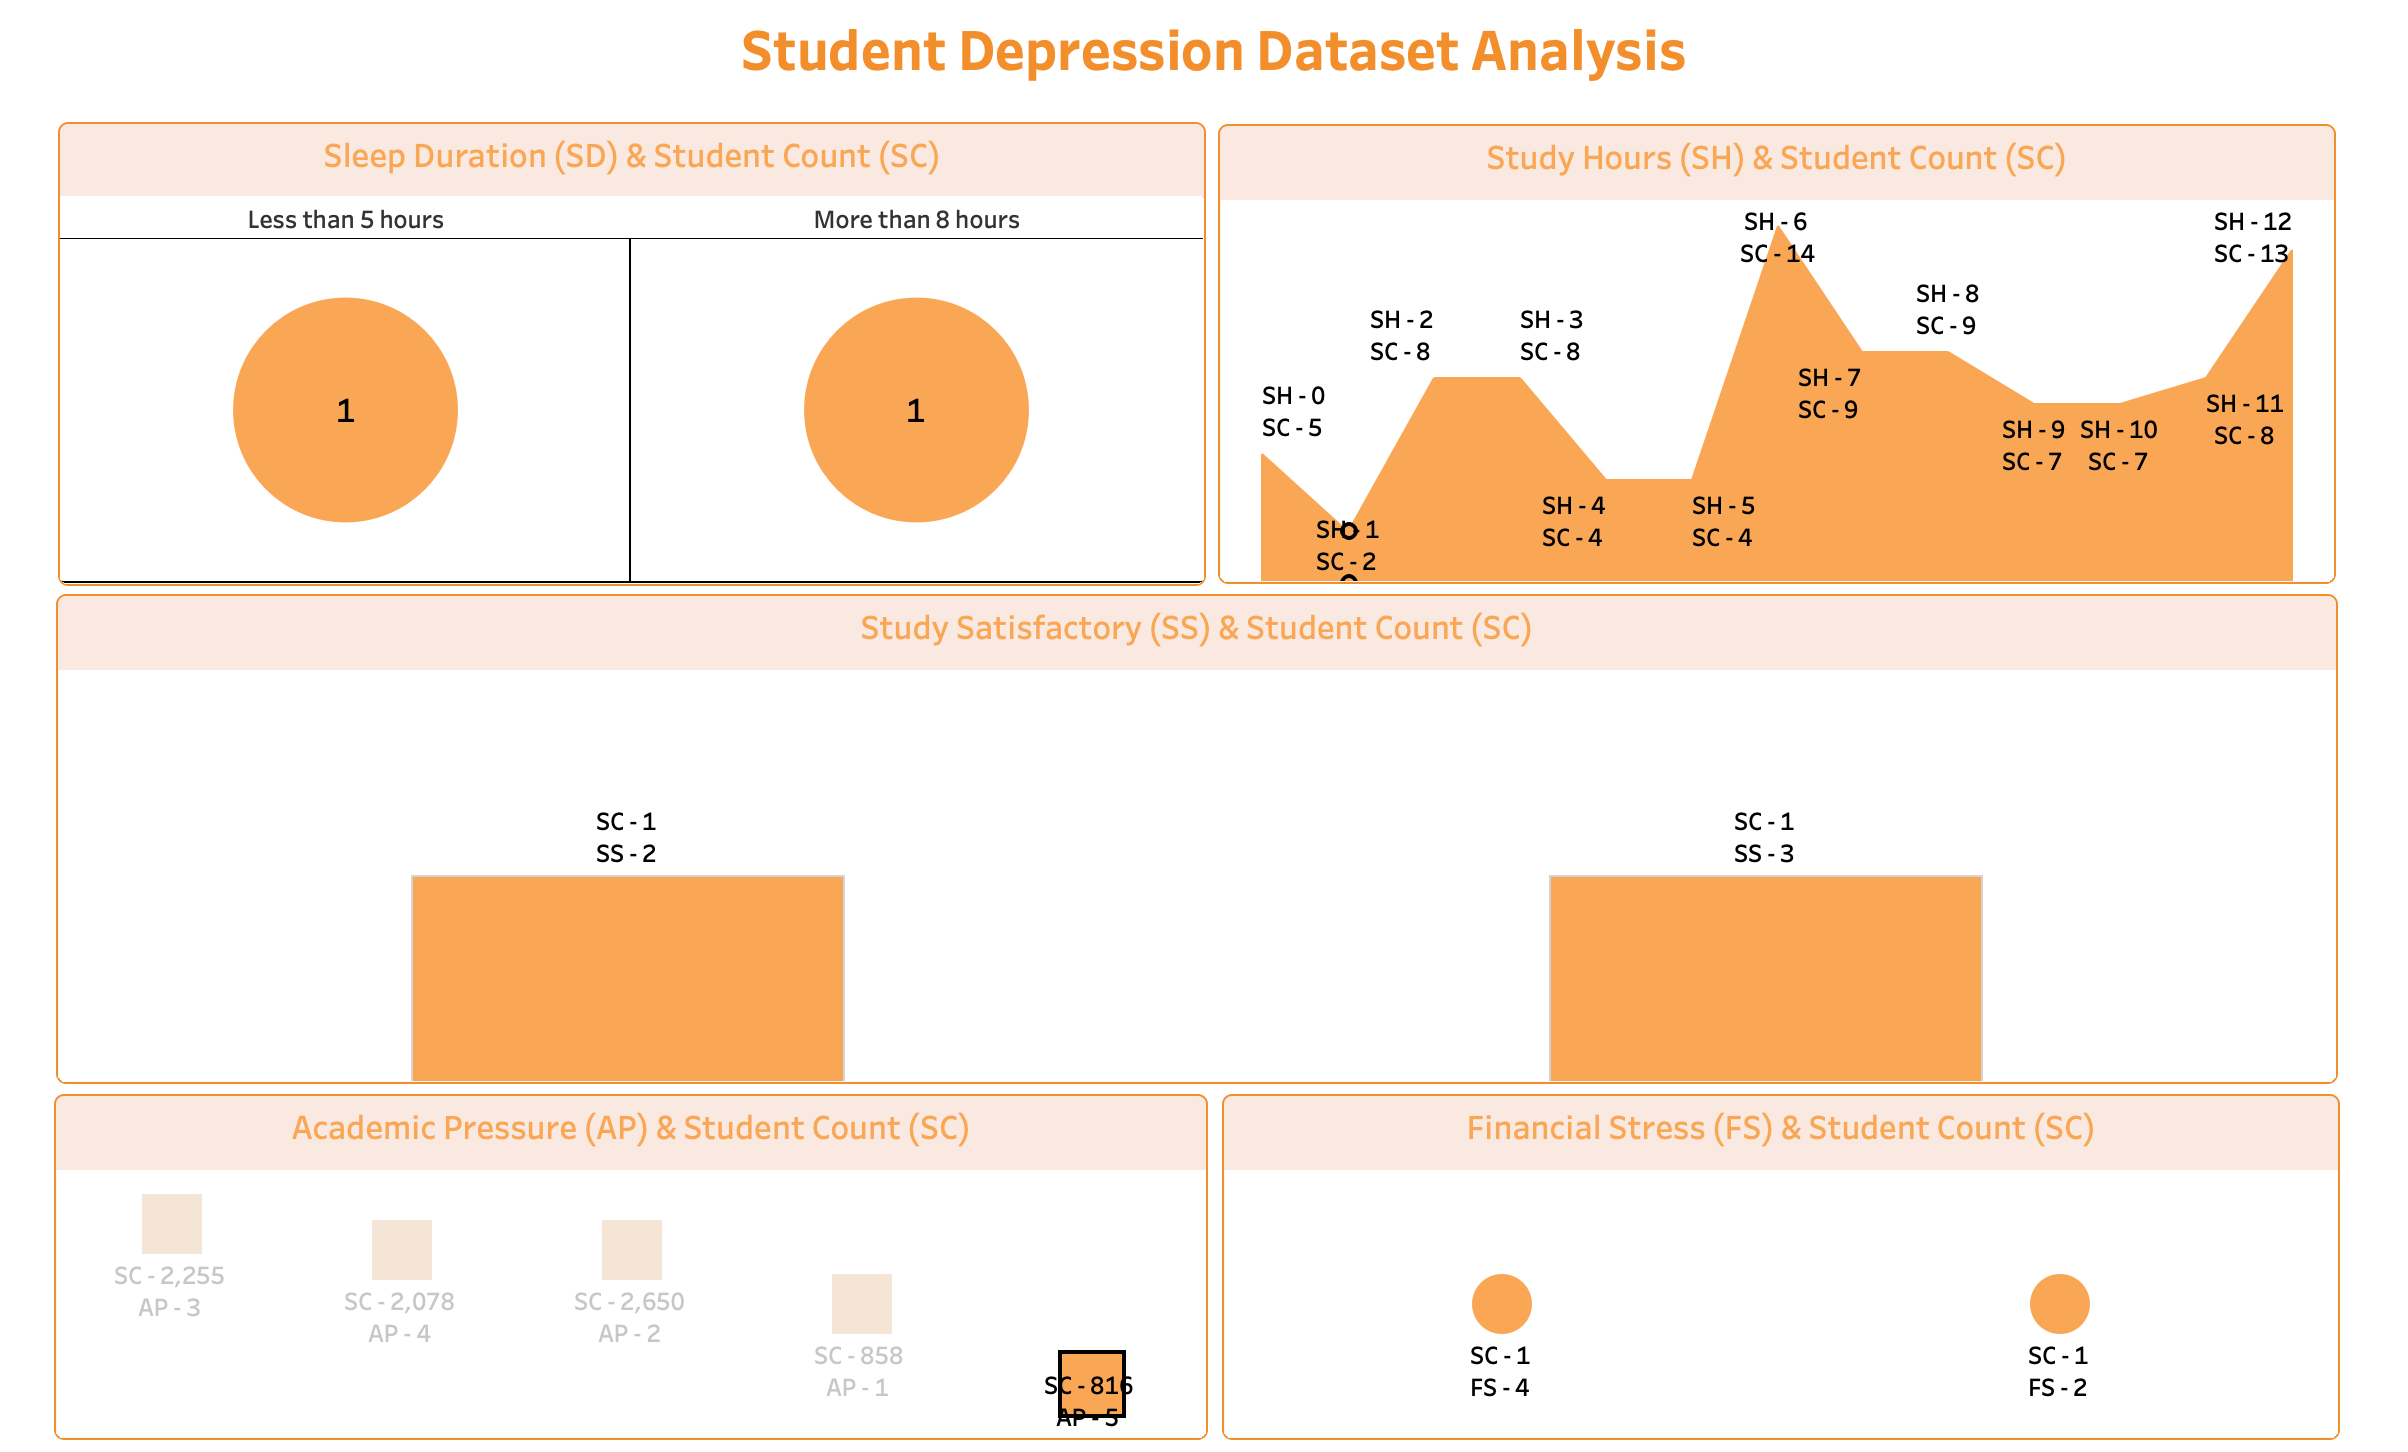

The page's visual inventory and layout, read from the dashboard file:
{"tool":"tableau","page":{"name":"Dashboard 1","canvas":[1000,1000],"units":"permille","ordinal":0},"visuals":[{"type":"title","box":[6.6,10.9,986.9,61.2]},{"type":"worksheet","title":"Sheet 4","mark":"Pie","cols":["sleep_duration"],"box":[26.2,91.2,470.5,315.7]},{"type":"worksheet","title":"Sheet 5","mark":"Area","rows":["index_col"],"cols":["study_hours"],"box":[501.6,92.5,458.2,312.9]},{"type":"worksheet","title":"Sheet 3","mark":"Automatic","rows":["index_col"],"cols":["study_satisfaction"],"box":[25.4,412.2,935.2,333.3]},{"type":"worksheet","title":"Sheet 1","mark":"Square","rows":["index_col"],"cols":["academic_pressure"],"box":[24.6,752.4,472.9,235.4]},{"type":"worksheet","title":"Sheet 2","mark":"Circle","rows":["index_col"],"cols":["financial_stress"],"box":[503.3,752.4,458.2,235.4]}]}

Visuals, with their boxes on the dashboard's canvas, which has no fixed pixel size, in thousandths of its width and height (x1, y1, x2, y2). These are canvas units, not pixel positions in the 2408x1452 screenshot, which may show the page scaled, cropped or inside an application window:
title: locate(7, 11, 994, 72)
"Sheet 4" worksheet (Pie marks): locate(26, 91, 497, 407)
"Sheet 5" worksheet (Area marks): locate(502, 92, 960, 405)
"Sheet 3" worksheet: locate(25, 412, 961, 746)
"Sheet 1" worksheet (Square marks): locate(25, 752, 498, 988)
"Sheet 2" worksheet (Circle marks): locate(503, 752, 962, 988)
